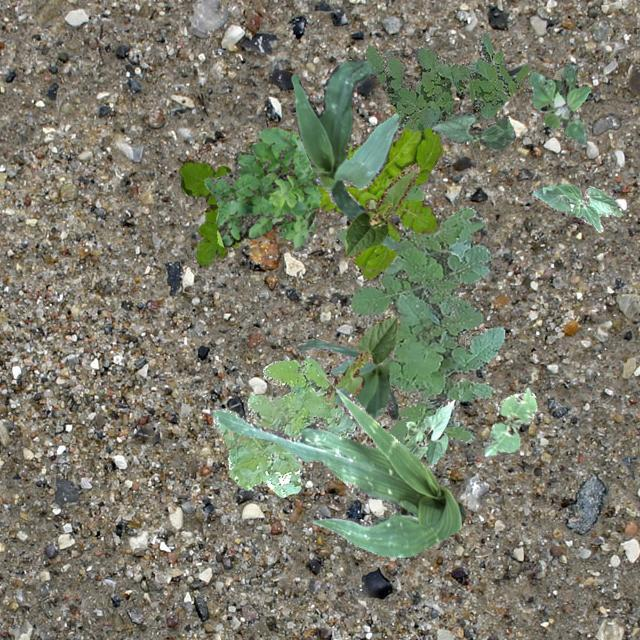crop: (208, 384, 464, 556), (290, 48, 402, 250), (296, 338, 396, 418), (344, 162, 418, 258), (326, 314, 398, 406), (530, 182, 622, 232), (480, 386, 536, 458), (404, 398, 454, 467), (430, 110, 514, 148)
weed: (334, 184, 504, 444), (210, 358, 354, 497), (316, 125, 442, 278), (364, 31, 528, 130), (178, 128, 294, 266), (202, 127, 320, 250), (528, 62, 588, 142)
